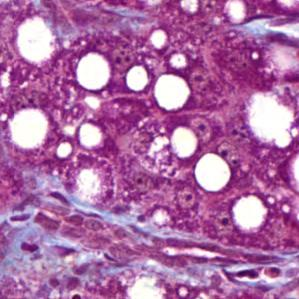steatosis: (250, 94, 294, 145), (16, 16, 55, 63), (10, 107, 49, 150), (76, 51, 110, 93), (230, 194, 267, 230), (196, 154, 230, 192), (155, 72, 189, 109), (76, 118, 103, 151), (170, 126, 196, 160)
